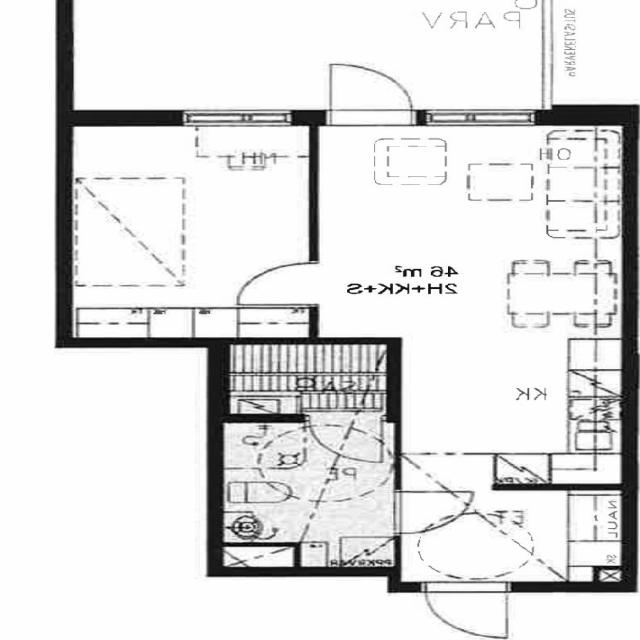door: (332, 64, 412, 125), (427, 582, 507, 637), (310, 414, 382, 463), (394, 492, 473, 533), (238, 264, 318, 304)
